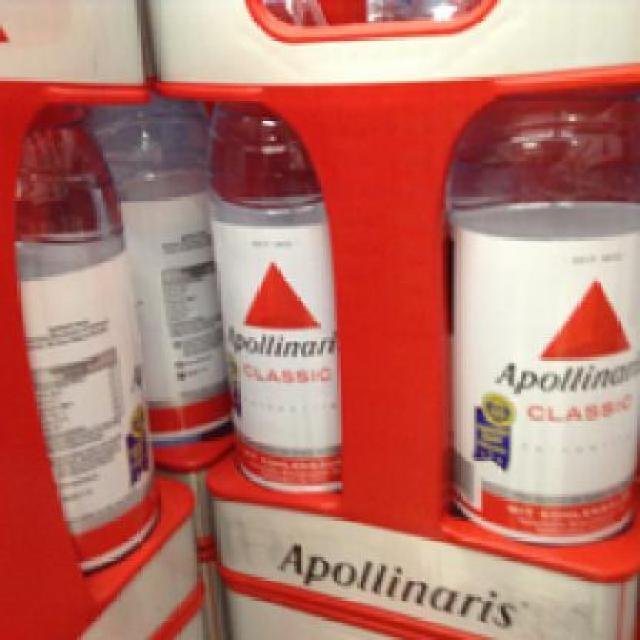Water: (445, 86, 638, 543), (14, 106, 157, 572), (197, 100, 340, 486)
